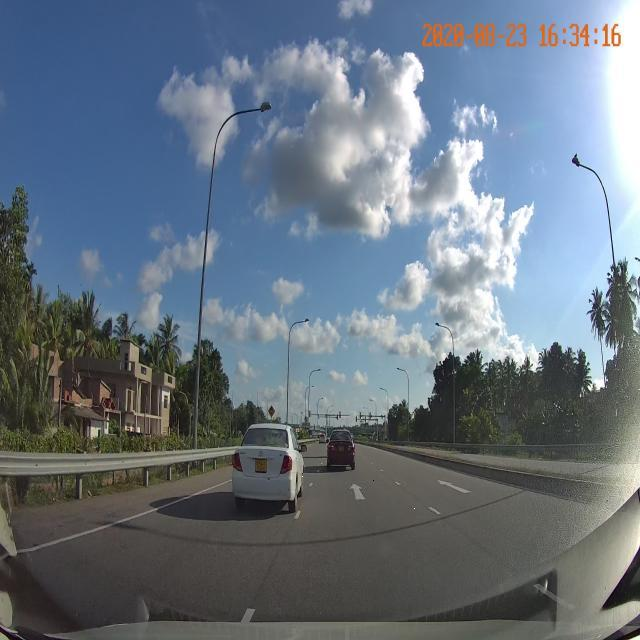forward: (301, 473, 433, 512)
